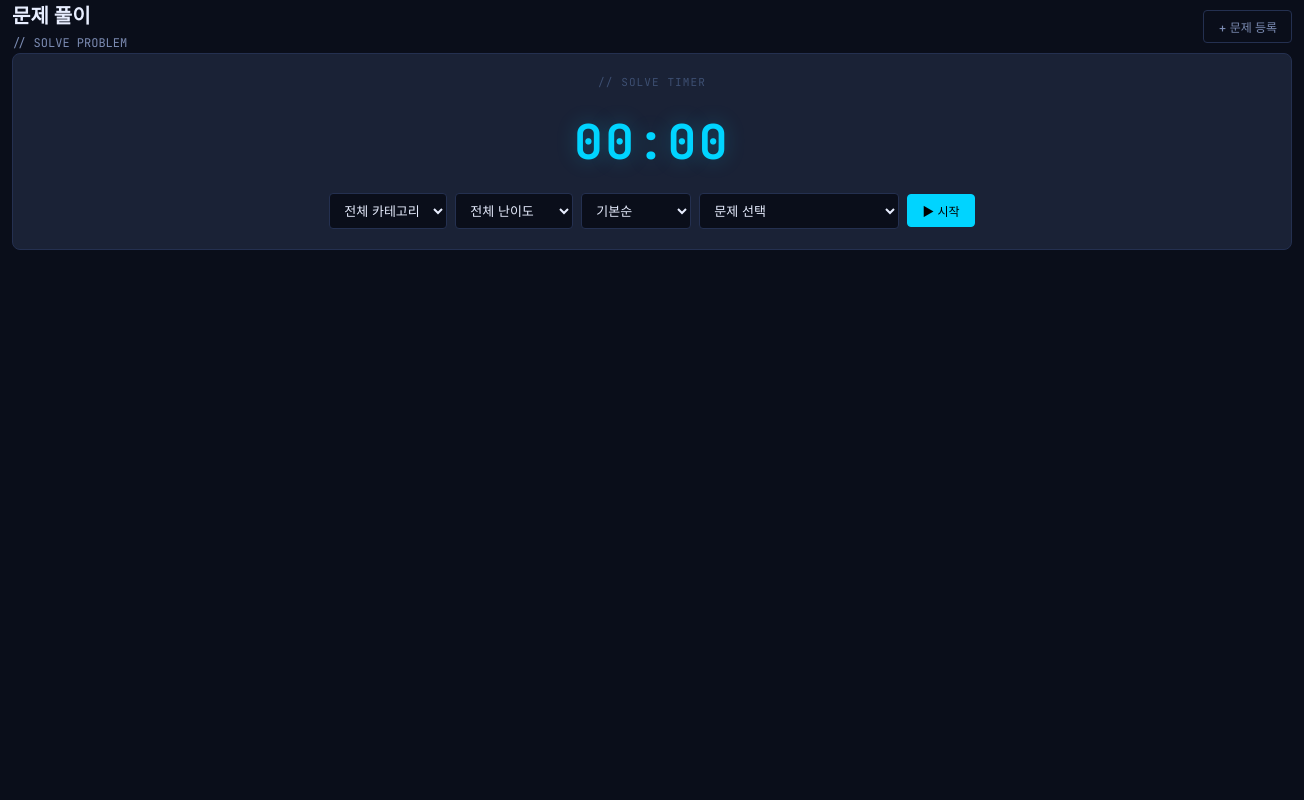
Test: SolvePage - Timer › shows error toast when start is clicked with no problem selected
Click the button "▶ 시작".
click(941, 211)  # box [907,194,975,227]
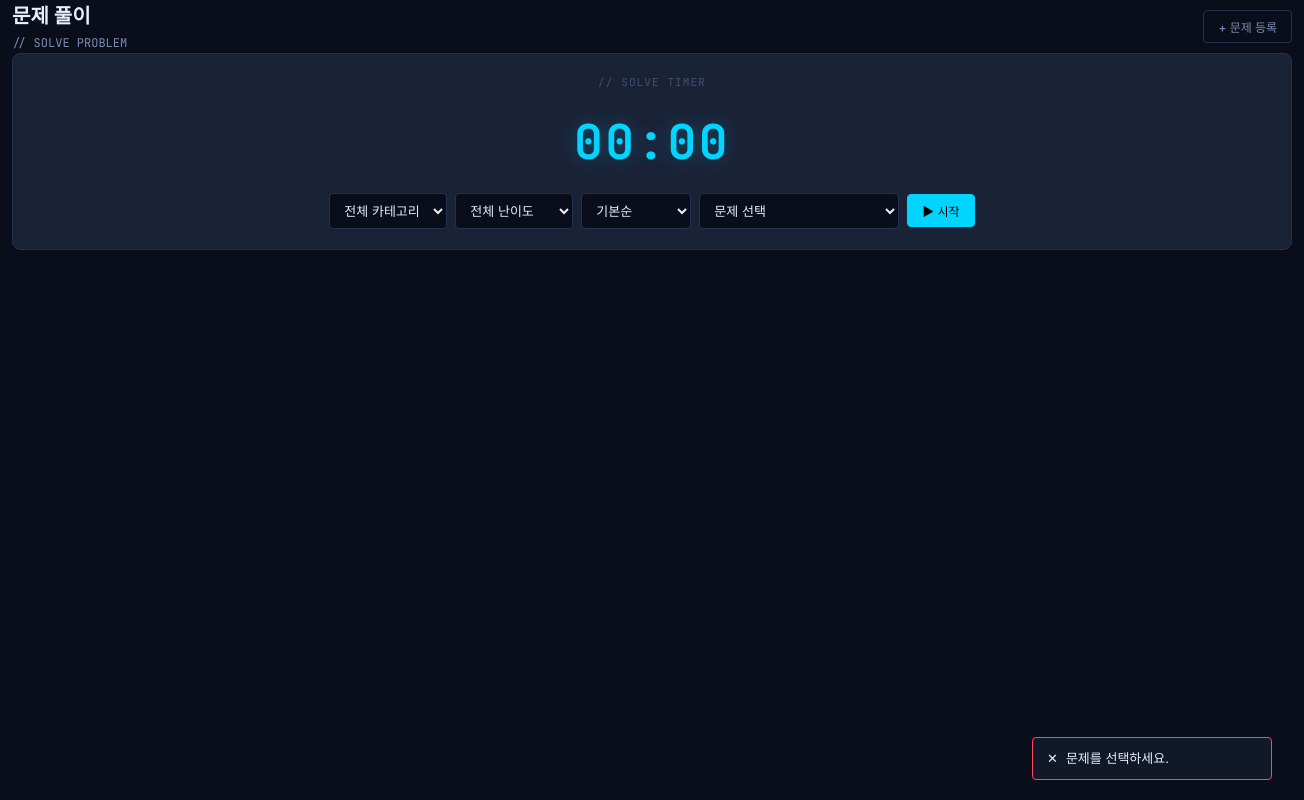
Expected: the text "문제를 선택하세요." is shown, [1066,750,1169,766]
